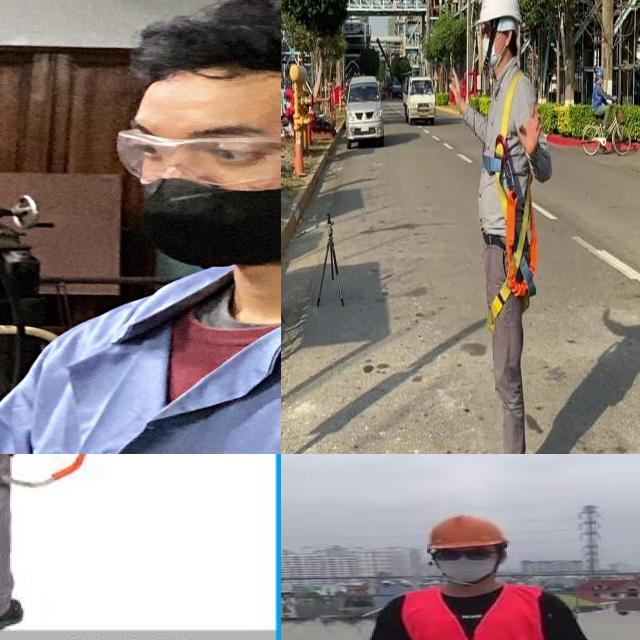Harness: (484, 70, 538, 332)
face_mask: (431, 545, 502, 582)
face_nomask: (93, 114, 281, 262)
glasses: (103, 121, 281, 185), (428, 545, 497, 563)
head_helmet: (422, 514, 510, 552)
head_nohelmet: (118, 0, 281, 106)
person: (0, 0, 281, 454), (372, 510, 596, 640)
vest: (402, 587, 551, 640)
